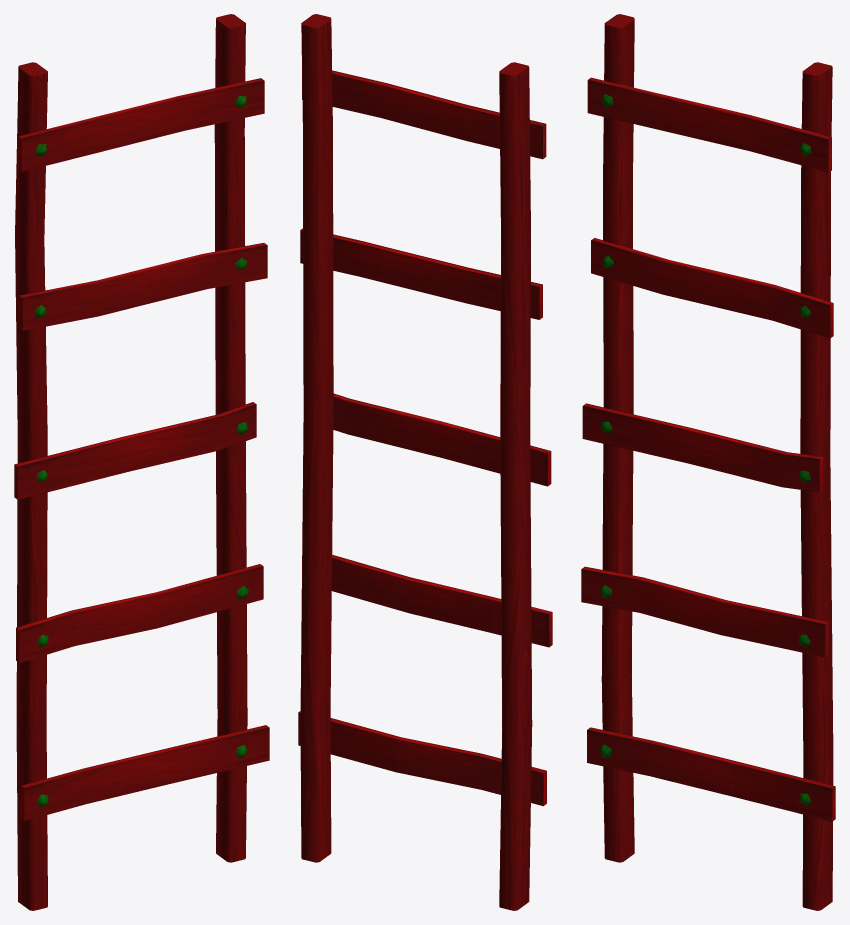
File: Ladder01.fbx
3 renders of one model, left to right at view 1: azimuth 30°, elevation 25°; view 2: azimuth 150°, elevation 25°; view 3: azimuth 330°, elevation 25°, orthographic.
Parts seen in each view (by area): view 1: Ladder01_LOD0; view 2: Ladder01_LOD0; view 3: Ladder01_LOD0.
Part boxes in pixels (x1,y1,x2,y2): Ladder01_LOD0: [14, 14, 269, 910]; Ladder01_LOD0: [298, 14, 552, 910]; Ladder01_LOD0: [581, 14, 835, 910].
Size of what is drawn, in the model's own units: 0.6285 by 2 by 0.0969.
